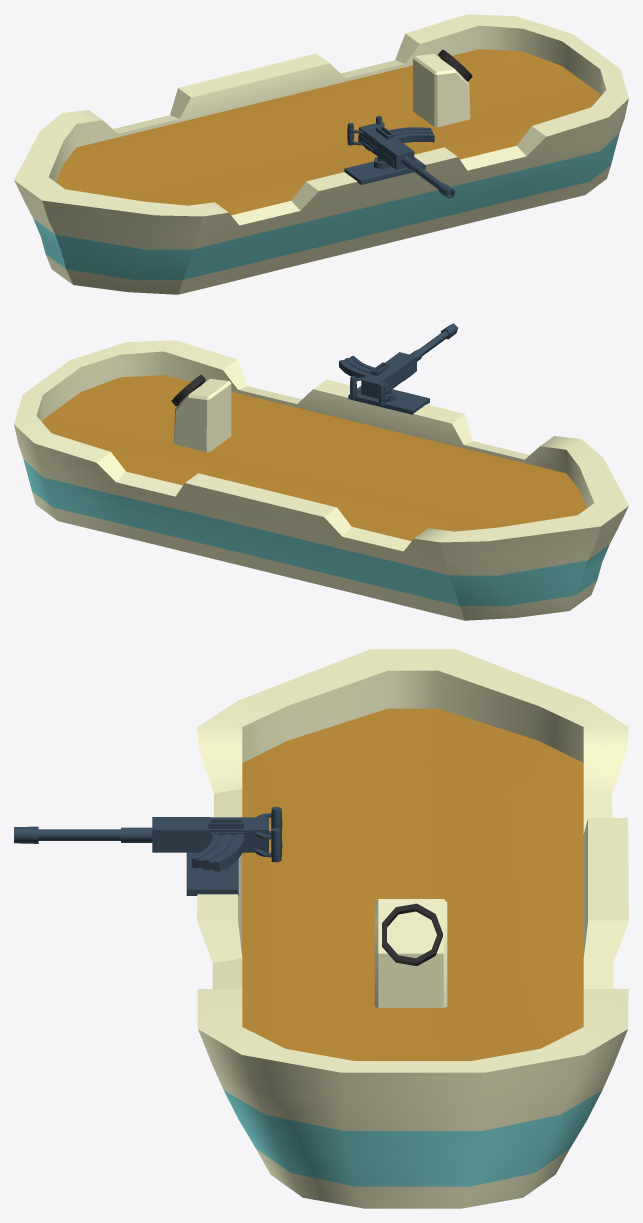
File: Boat_UV.FBX
3 renders of one model, top to bottom at view 1: azimuth 30°, elevation 25°; view 2: azimuth 150°, elevation 25°; view 3: azimuth 270°, elevation 25°, orthographic. The views are drawn at different scales.
Parts seen in each view (by area): view 1: Boat, Steering Wheel, Turret, Turret_Base; view 2: Boat, Steering Wheel, Turret, Turret_Base; view 3: Boat, Steering Wheel, Turret, Turret_Base.
Boxes of the visible parts, x1,y1,x2,y2 form: Boat: (14,14,628,294); Steering Wheel: (413,49,472,127); Turret: (347,116,455,198); Turret_Base: (344,157,425,184); Boat: (14,340,628,620); Steering Wheel: (171,374,231,452); Turret: (339,323,457,405); Turret_Base: (348,386,429,414); Boat: (197,649,628,1208); Steering Wheel: (374,899,447,1007); Turret: (14,806,282,871); Turret_Base: (186,852,238,895).
Size of the model in its own units: 276 by 61.97 by 169.
